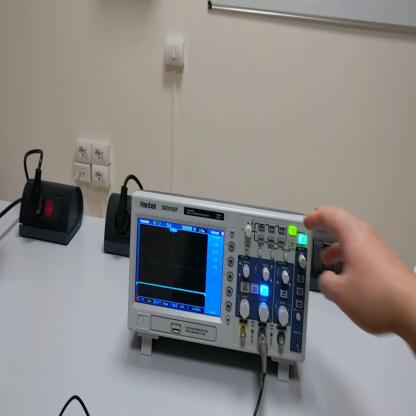hand: (303, 203, 404, 338)
oscilloscope: (129, 192, 315, 385)
socket: (21, 179, 84, 247), (106, 191, 129, 257)
